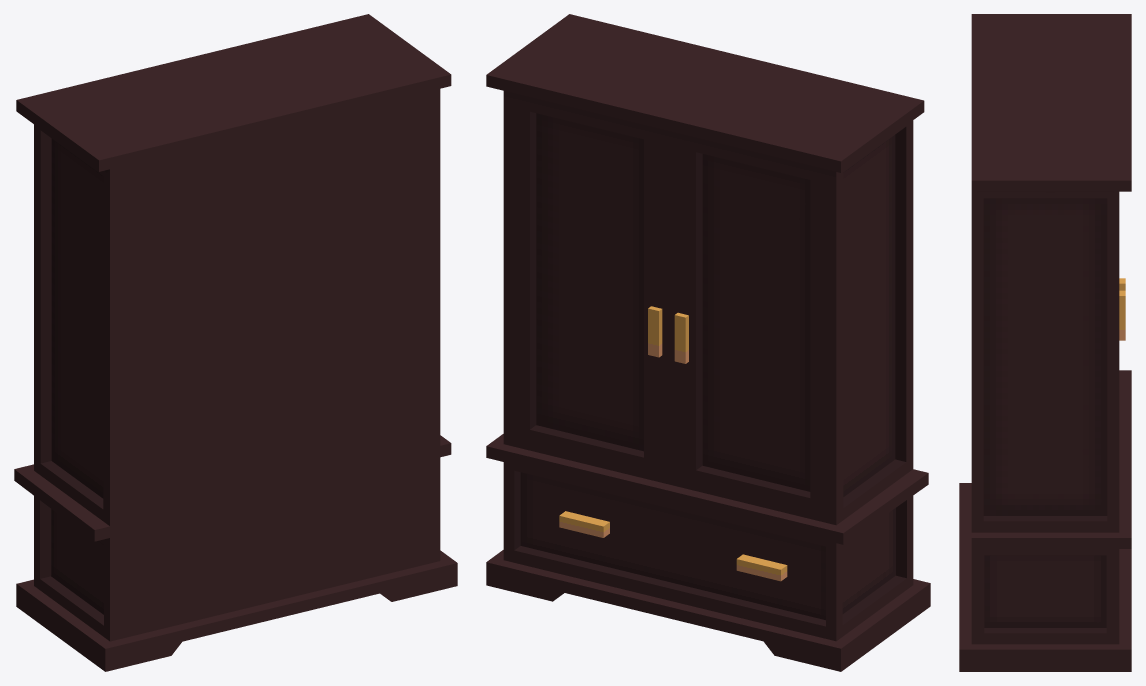
Rendered from old_wardrobe.gltf.
The picture shows the model from 3 angles, left to right: view 1: azimuth 30°, elevation 25°; view 2: azimuth 150°, elevation 25°; view 3: azimuth 270°, elevation 25°; orthographic projection. The views are drawn at different scales.
Visible parts, largest first — view 1: cube; view 2: cube; view 3: cube.
Part boxes in pixels (<box>): cube: <box>14,14,457,671</box>; cube: <box>486,14,930,671</box>; cube: <box>959,14,1131,671</box>.
Bounding box in the file's own units: 2.02 × 2.75 × 0.875.
Materials: 1 (1 with a texture image).
